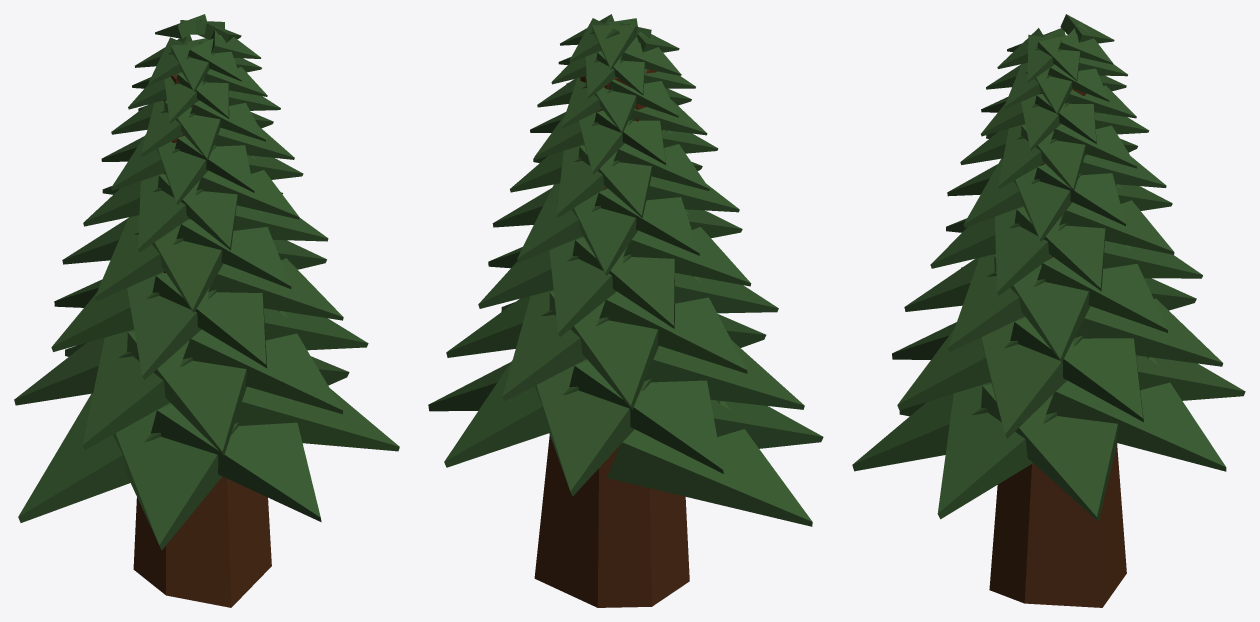
Rendered from tree.fbx.
3 renders of one model, left to right at view 1: azimuth 30°, elevation 25°; view 2: azimuth 150°, elevation 25°; view 3: azimuth 270°, elevation 25°, orthographic. The views are drawn at different scales.
Parts seen in each view (by area): view 1: Cylinder.003; view 2: Cylinder.003; view 3: Cylinder.003.
Part boxes in pixels (x1,y1,x2,y2): Cylinder.003: [14, 14, 399, 607]; Cylinder.003: [428, 14, 823, 607]; Cylinder.003: [852, 14, 1245, 607].
Bounding box in the file's own units: 599 × 908 × 570.
